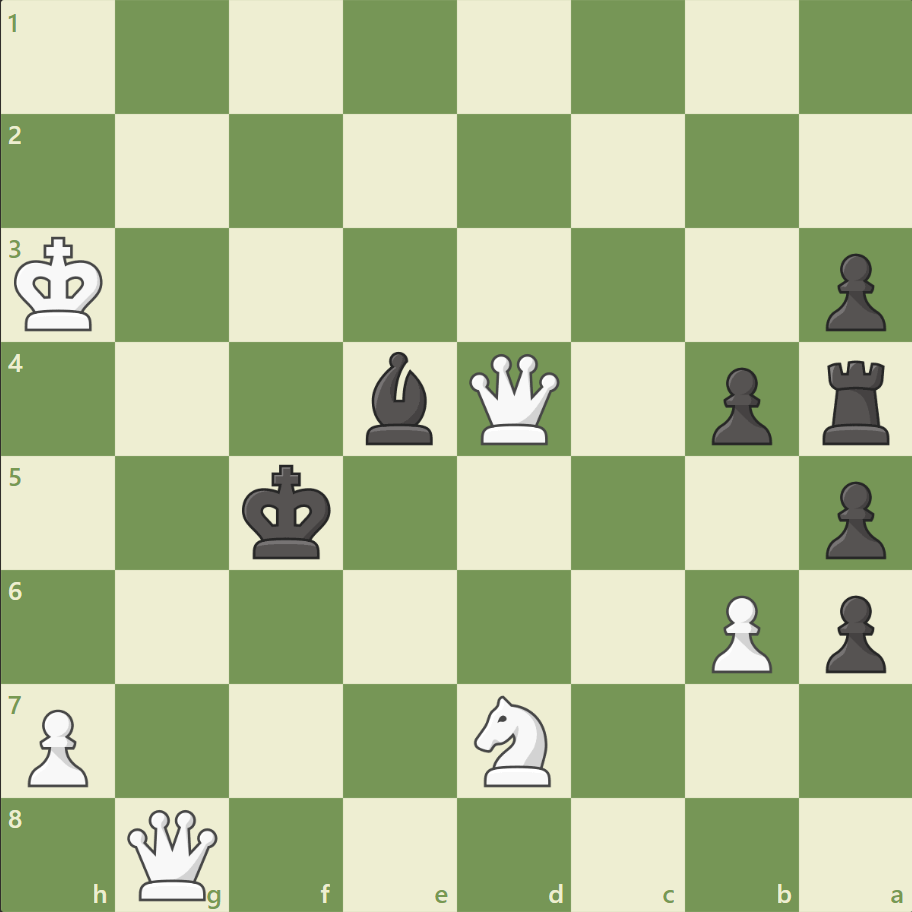K: (11, 231, 111, 339)
N: (465, 688, 562, 791)
P: (20, 700, 95, 791), (701, 586, 776, 677)
Q: (464, 349, 563, 449), (124, 804, 223, 903)
b: (358, 347, 442, 449)
k: (238, 458, 338, 566)
p: (701, 359, 776, 450), (815, 586, 889, 677), (815, 473, 889, 564), (815, 246, 889, 337)
r: (814, 352, 897, 449)
